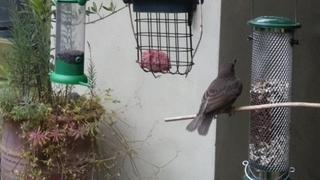starling: (185, 58, 243, 136)
